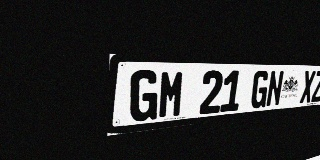1: (220, 70, 242, 112)
2: (199, 70, 224, 115)
G: (129, 70, 159, 122), (250, 70, 270, 109)
M: (157, 70, 185, 119)
N: (265, 70, 284, 107)
X: (299, 71, 316, 103)
Z: (311, 71, 320, 102)
